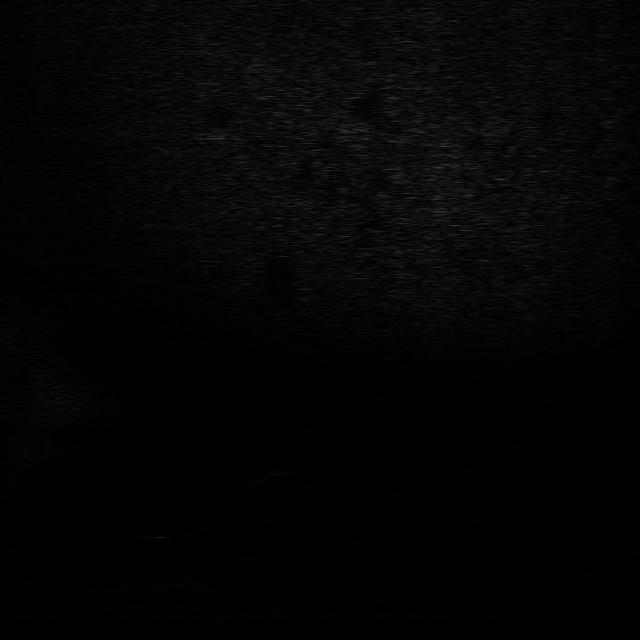ball: (252, 450, 306, 479)
square cage: (161, 493, 245, 531)
